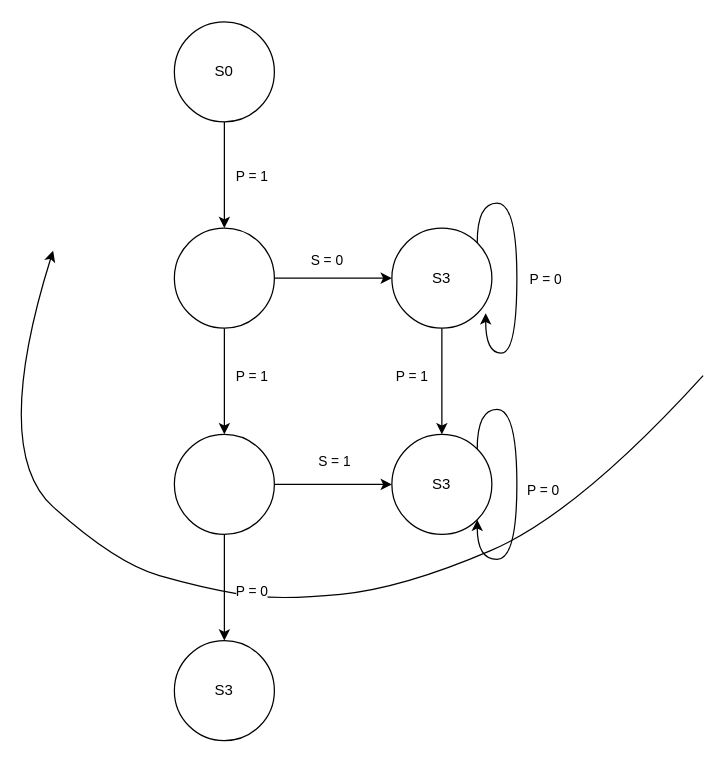
Some shapes in this 726 by 763 pixel diagram are drawn without their labels. The centre of each missing label's shape, as x and y in pixels:
S1: the point at 223,277
S2: the point at 223,483
